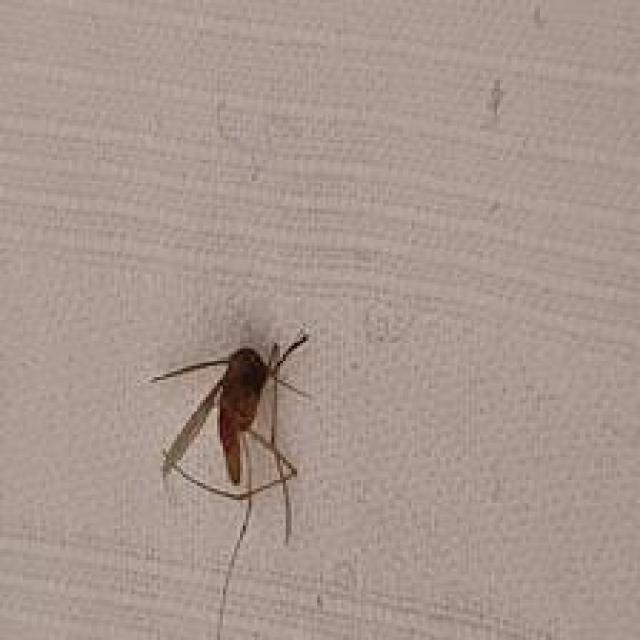Culex: (148, 325, 314, 640)
